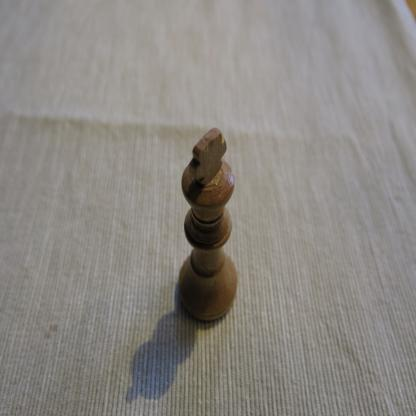white-king: (177, 126, 238, 326)
